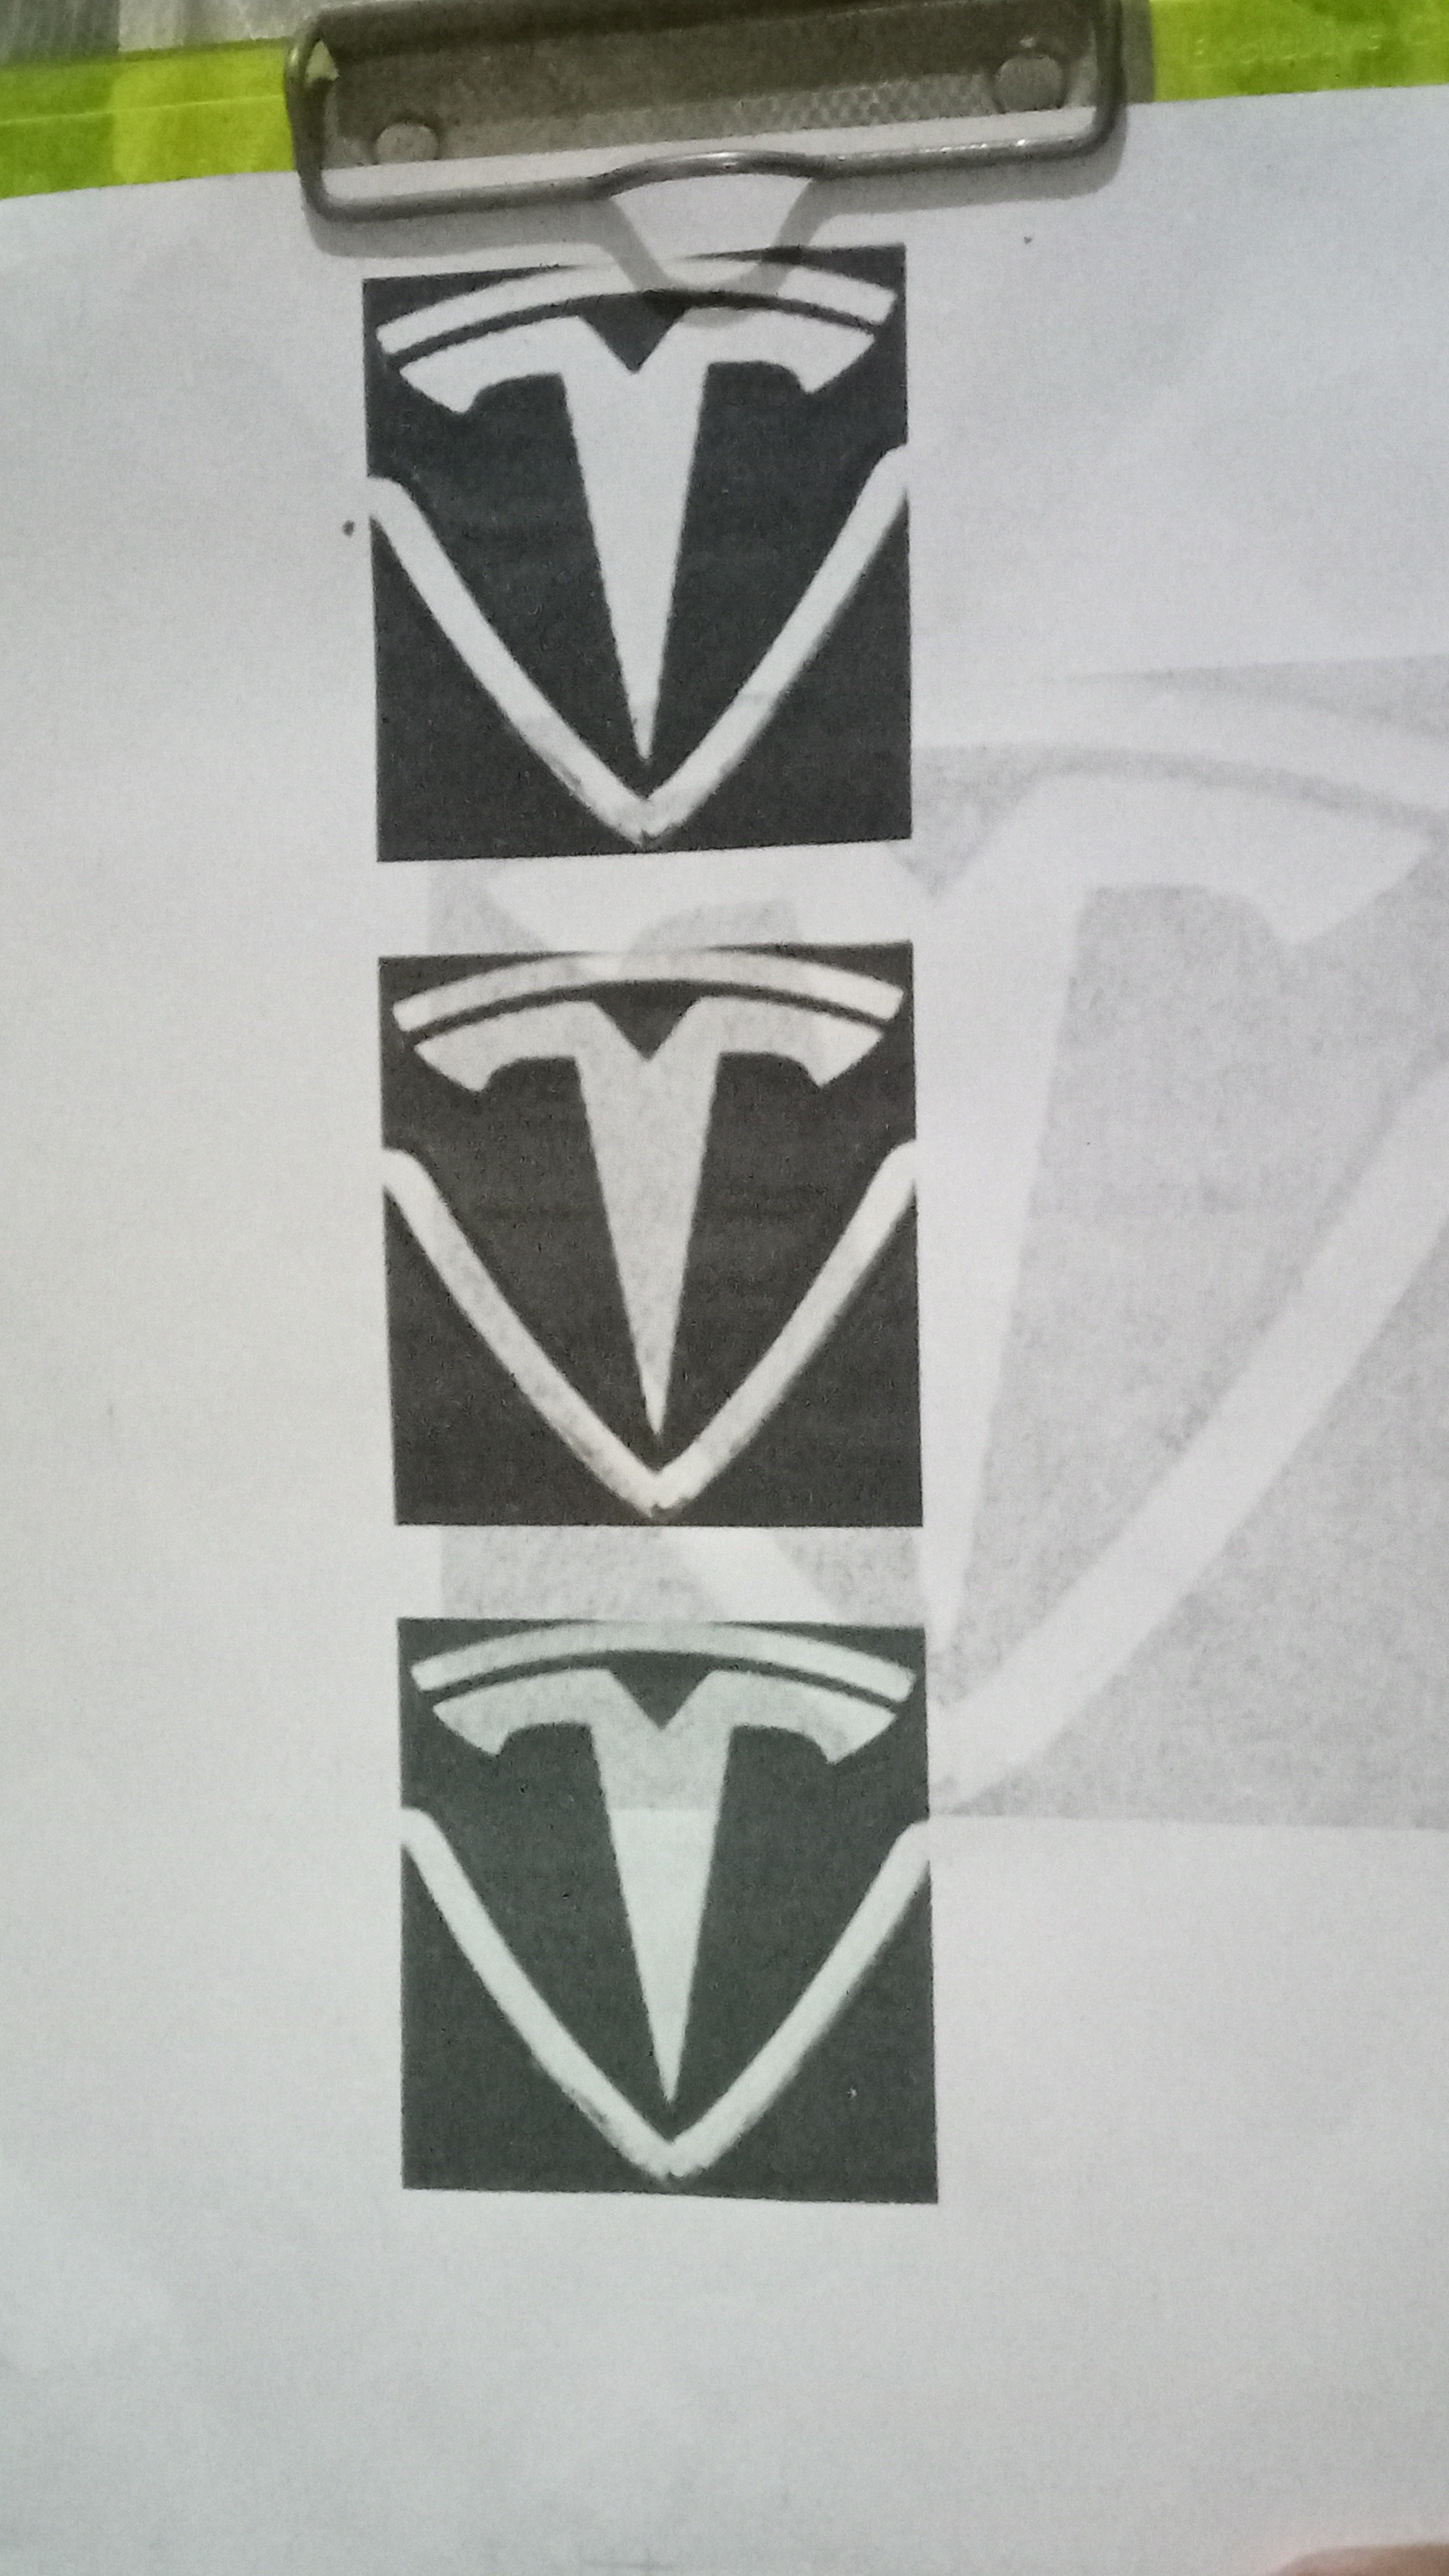Tesla: (349, 262, 925, 856), (372, 943, 925, 1529), (389, 1608, 931, 2197)
